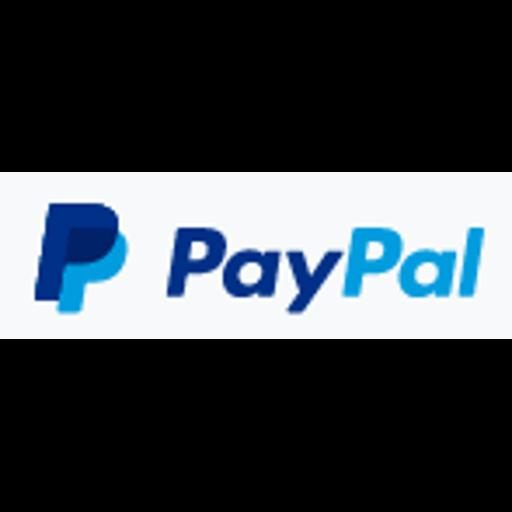PayPal: (0, 172, 512, 339)
